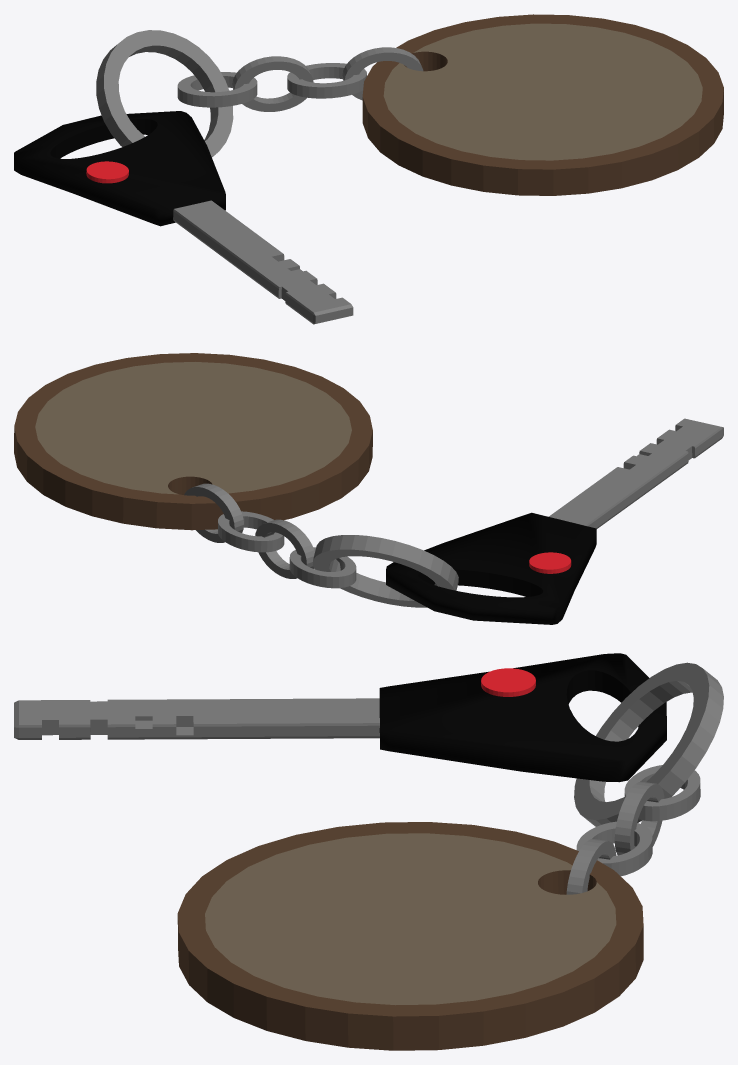
The model's file is keys.fbx.
The picture shows the model from 3 angles, top to bottom: view 1: azimuth 30°, elevation 25°; view 2: azimuth 150°, elevation 25°; view 3: azimuth 270°, elevation 25°; orthographic projection. The views are drawn at different scales.
Parts seen in each view (by area): view 1: avaimenperä, avain, iso lenkki; view 2: avaimenperä, avain, iso lenkki; view 3: avaimenperä, avain, iso lenkki.
Part boxes in pixels (box(x1,y1,x2,y2)): avaimenperä: box(362, 14, 723, 195); avain: box(14, 111, 353, 324); iso lenkki: box(96, 30, 423, 157); avaimenperä: box(14, 353, 372, 530); avain: box(386, 418, 723, 624); iso lenkki: box(184, 483, 458, 607); avaimenperä: box(177, 822, 643, 1050); avain: box(14, 653, 666, 782); iso lenkki: box(566, 662, 723, 894).
Size of the model in its own units: 10.69 by 1.8 by 8.42.
